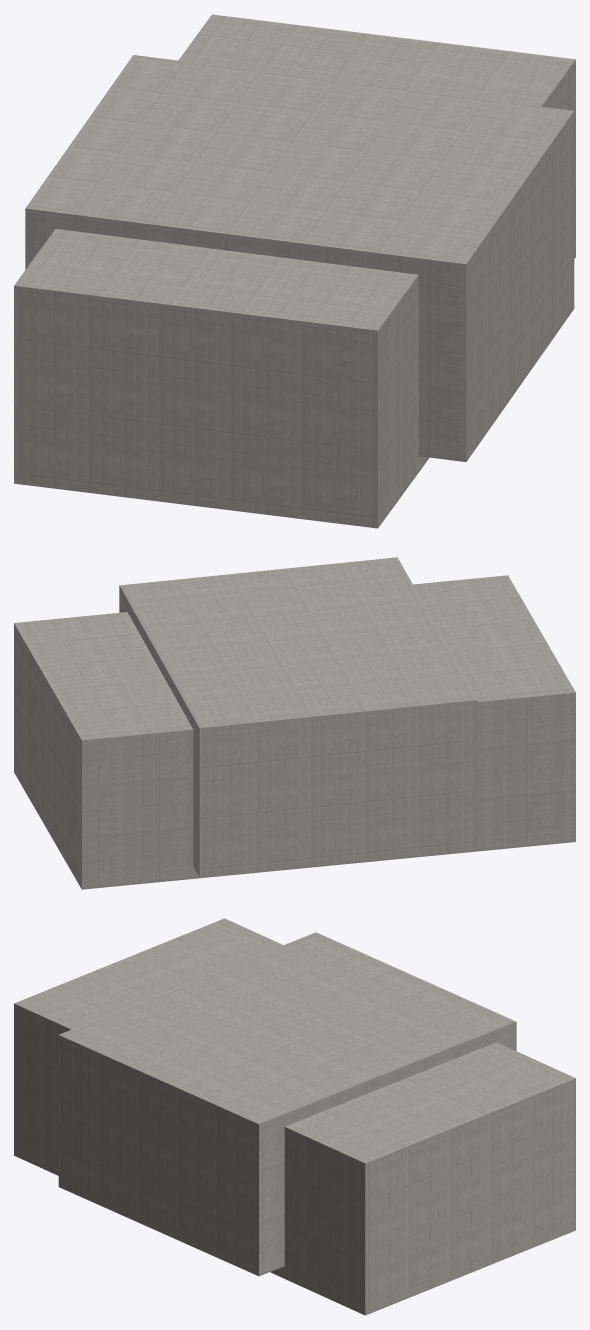
The model's file is kd_stage_1366d7_12_0_bounded.glb.
3 renders of one model, top to bottom at view 1: azimuth 30°, elevation 25°; view 2: azimuth 150°, elevation 25°; view 3: azimuth 270°, elevation 25°, orthographic. The views are drawn at different scales.
Parts seen in each view (by area): view 1: kd_stage_1366d7_12_0_bounded; view 2: kd_stage_1366d7_12_0_bounded; view 3: kd_stage_1366d7_12_0_bounded.
Boxes of the visible parts, left/top/right/bottom form: kd_stage_1366d7_12_0_bounded: left=14, top=14, right=575, bottom=528; kd_stage_1366d7_12_0_bounded: left=14, top=557, right=575, bottom=889; kd_stage_1366d7_12_0_bounded: left=14, top=918, right=575, bottom=1315.
Bounding box in the file's own units: 277 × 86.94 × 269.
1 material, 1 textured.
